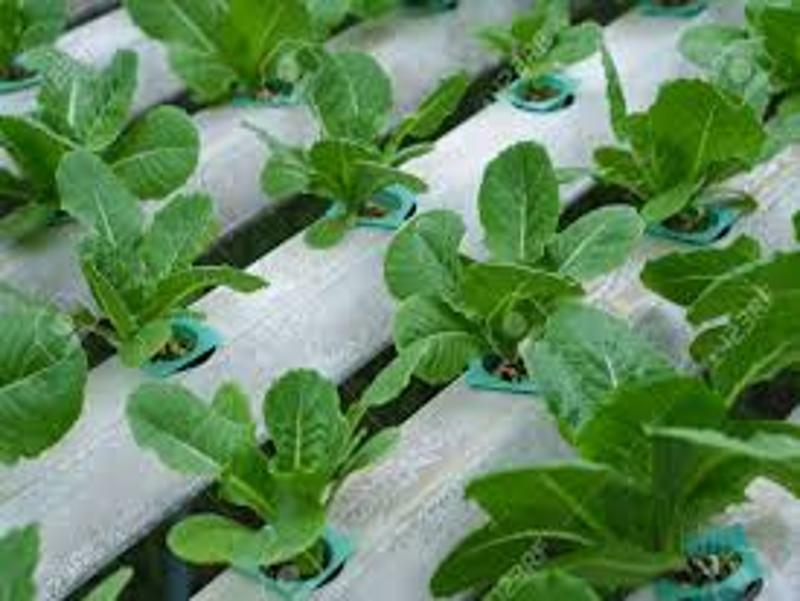cabbage: (479, 266, 800, 565), (139, 369, 378, 561), (396, 162, 596, 372), (52, 152, 265, 341), (13, 53, 199, 228), (277, 42, 442, 227), (494, 4, 607, 91)
